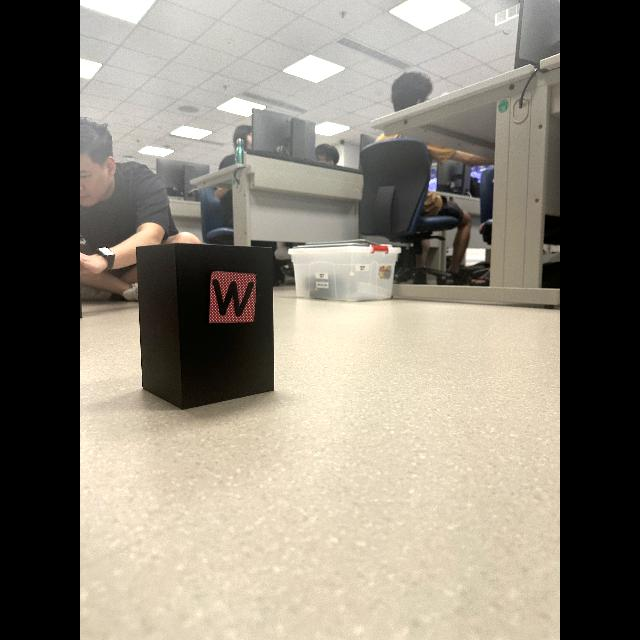W: (213, 280, 253, 317)
